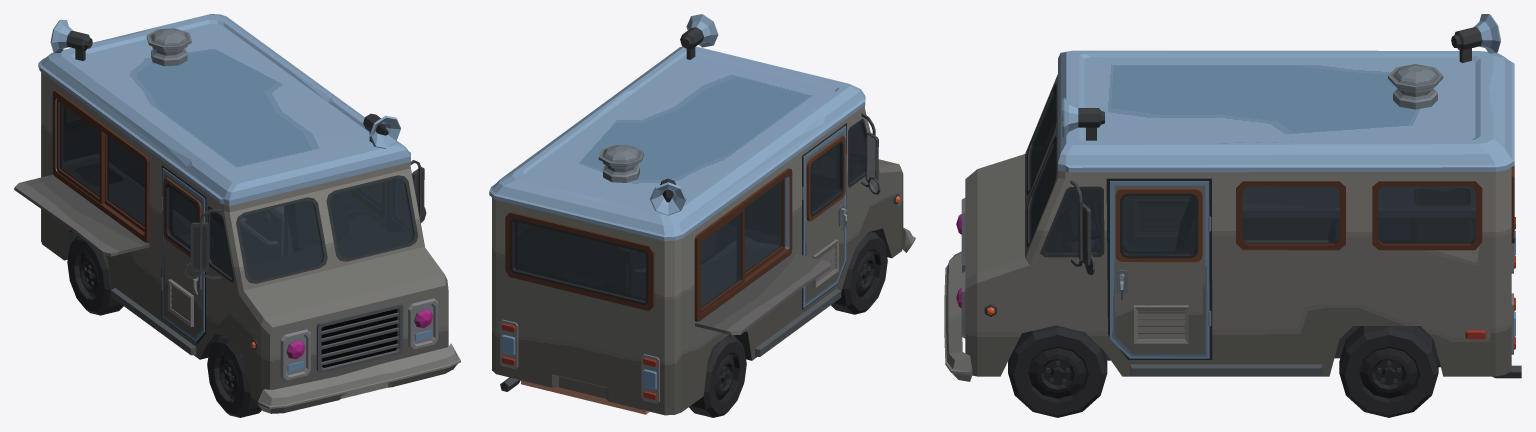
File: redline_pro_foodvan.glb
3 renders of one model, left to right at view 1: azimuth 30°, elevation 25°; view 2: azimuth 150°, elevation 25°; view 3: azimuth 270°, elevation 25°, orthographic. The views are drawn at different scales.
Visible parts, largest first — view 1: Body, Glass, Door_R, Wheel_FR, Wheel_RR, Door_L; view 2: Body, Glass, Door_R, Wheel_RR, Wheel_FR; view 3: Body, Door_L, Glass, Wheel_RL, Wheel_FL, Door_R.
Part boxes in pixels (box(x1,y1,x2,y2)): Body: box(14, 14, 460, 413); Glass: box(60, 103, 413, 280); Door_R: box(161, 168, 205, 341); Wheel_FR: box(207, 336, 261, 417); Wheel_RR: box(67, 235, 123, 315); Door_L: box(351, 181, 386, 228); Body: box(489, 14, 915, 415); Glass: box(514, 122, 865, 308); Door_R: box(802, 126, 846, 307); Wheel_RR: box(689, 334, 746, 417); Wheel_FR: box(831, 231, 887, 314); Body: box(944, 14, 1521, 381); Door_L: box(1110, 181, 1211, 358); Glass: box(1029, 90, 1475, 253); Wheel_RL: box(1339, 326, 1438, 417); Wheel_FL: box(1008, 325, 1107, 417); Door_R: box(1123, 196, 1190, 250).
Bounding box in the file's own units: 2.69 × 2.58 × 4.4.
3 materials, 2 textured.
